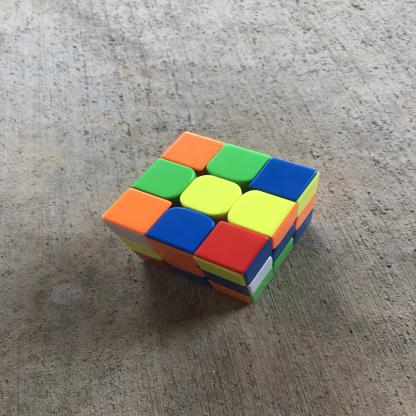UnsolvedCube: (100, 127, 338, 311)
